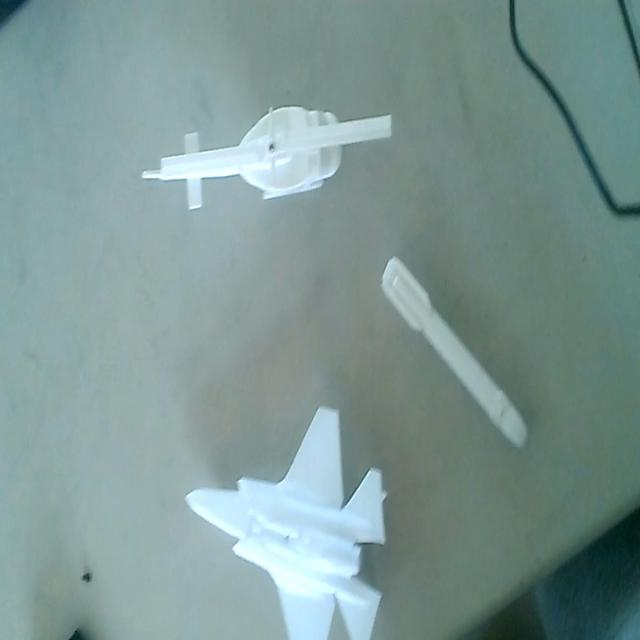Helicopter: (137, 101, 394, 216)
Jet: (183, 400, 389, 640)
Rocket: (380, 249, 532, 455)
